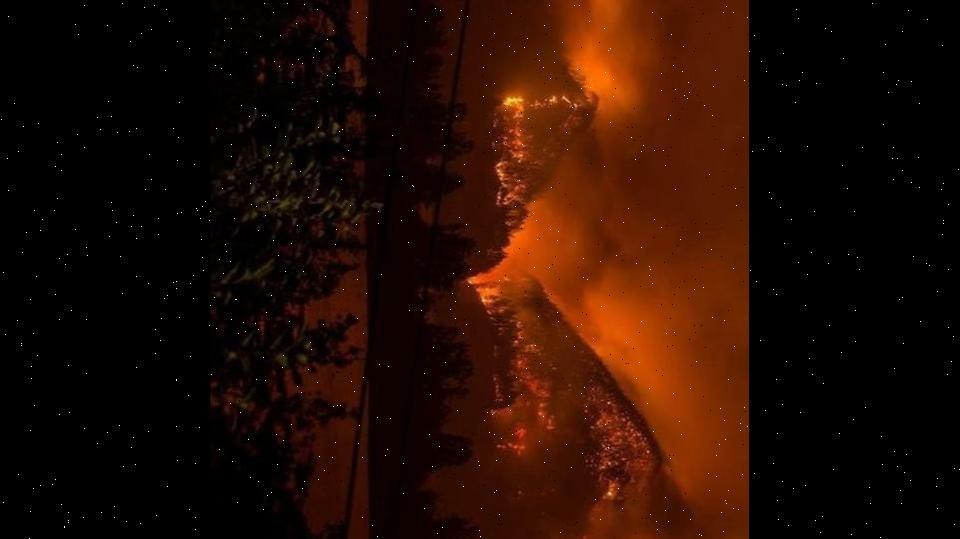fire: (455, 0, 739, 539)
